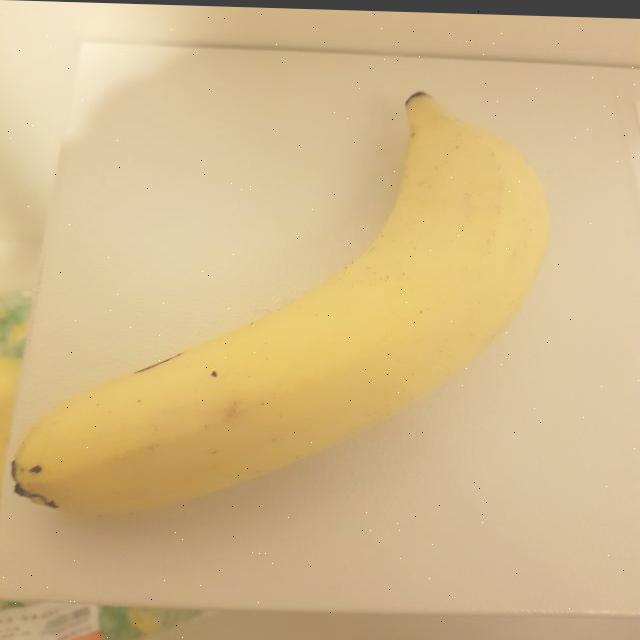banana: (9, 57, 561, 543)
